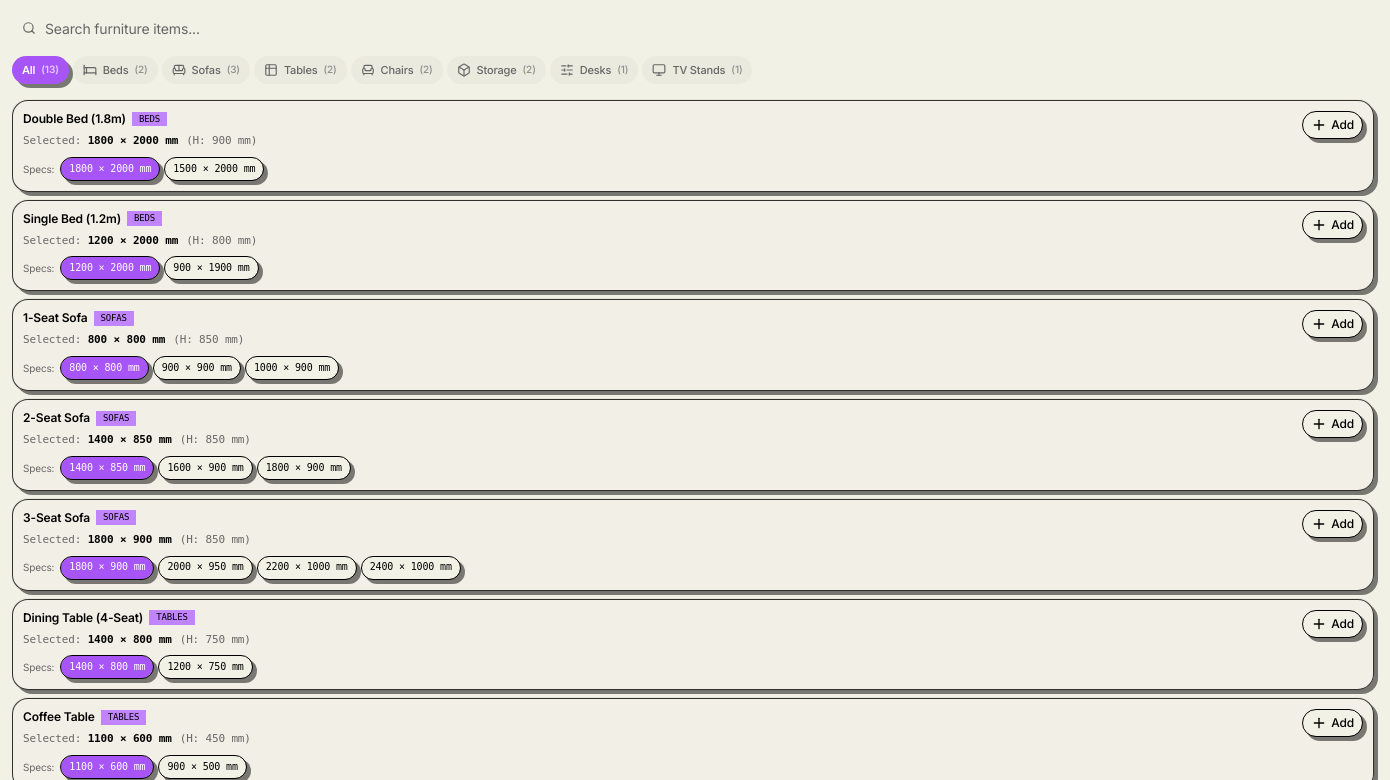
it: FurnitureCatalogPalette Component (US-10, AC-10) › filters items by search query
In the field with test id "furniture-search-input": point(695, 28) [12,12,1378,44], type "wardrobe"
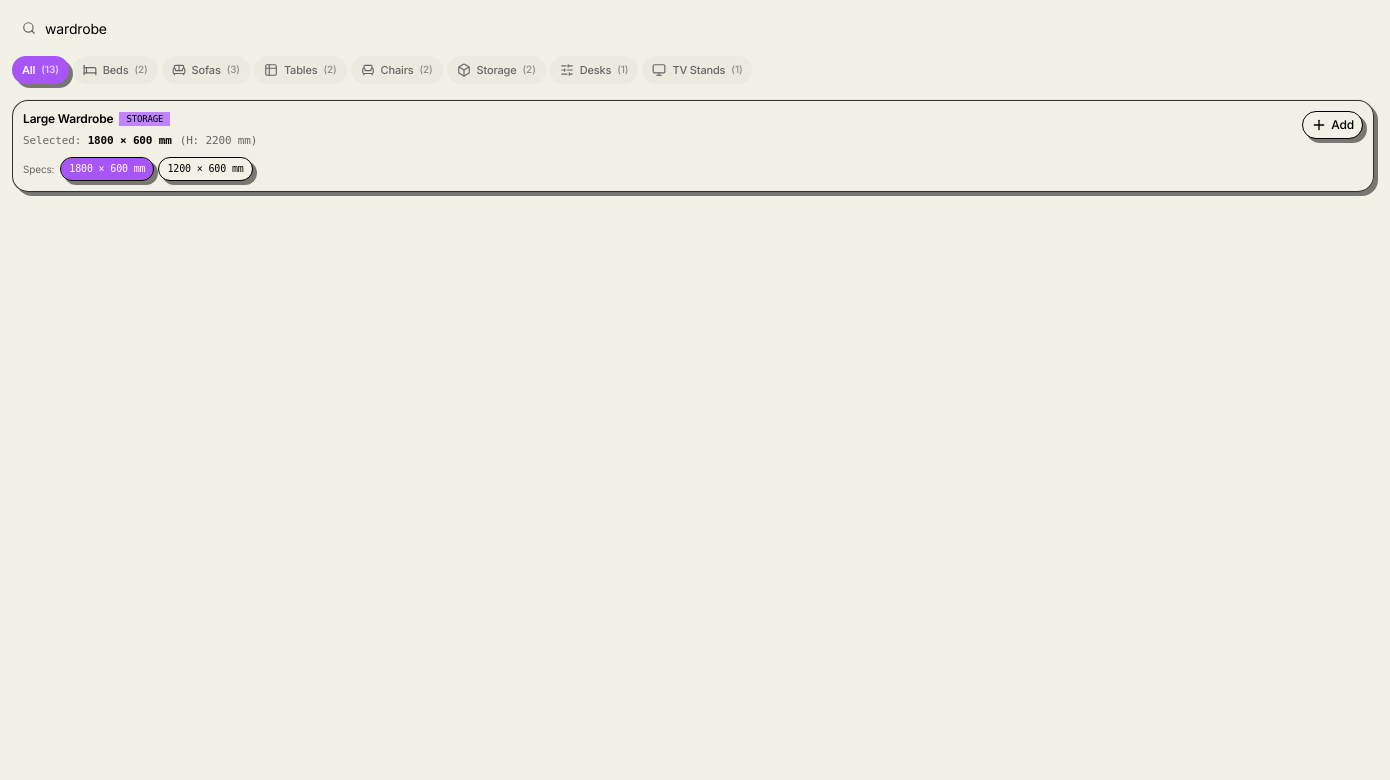
Check: the element with test id "furniture-catalog-card-wardrobe-large" is shown, box [12,100,1374,192]
Check: the element with test id "furniture-catalog-card-bed-double" is gone
